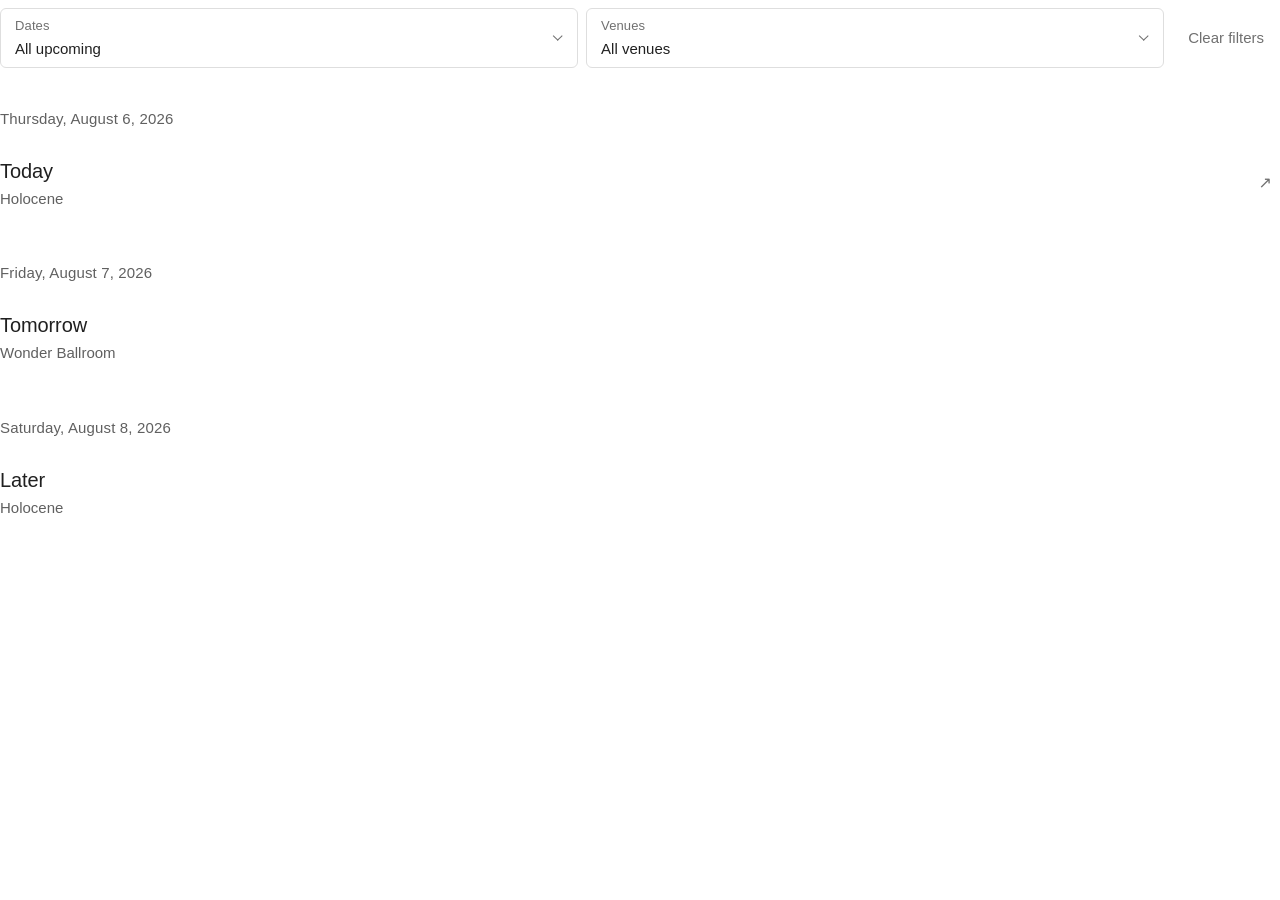
EventExplorer › opens an accessible date picker from the date filter
Click the button with aria-label "Dates, All upcoming". click: (32, 26)
box: 0,8 -> 578,68
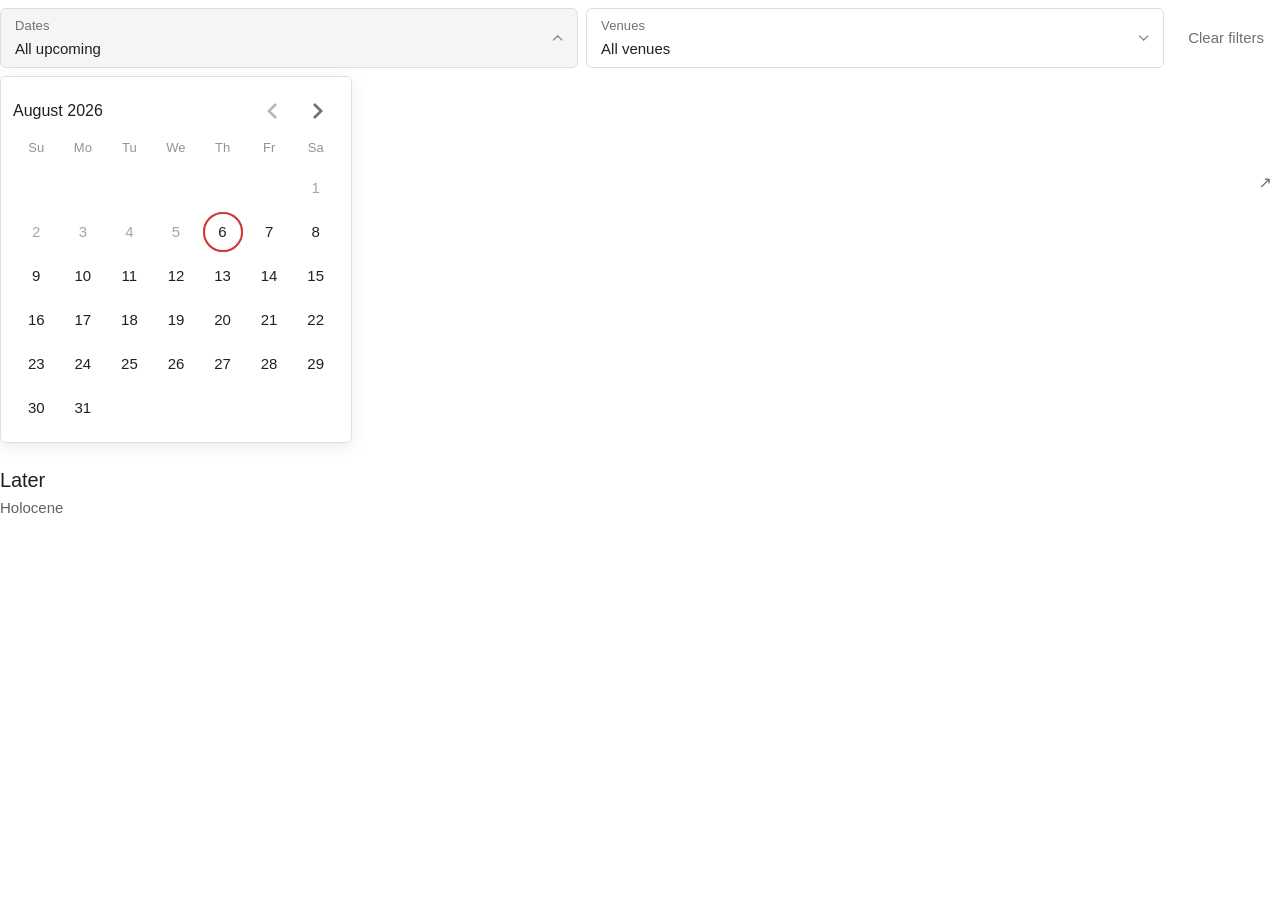
Check: the button with aria-label "Dates, All upcoming" is expanded, box 0,8 -> 578,68
Check: the dialog named "Choose a show date or range" is shown, box 13,89 -> 339,430
